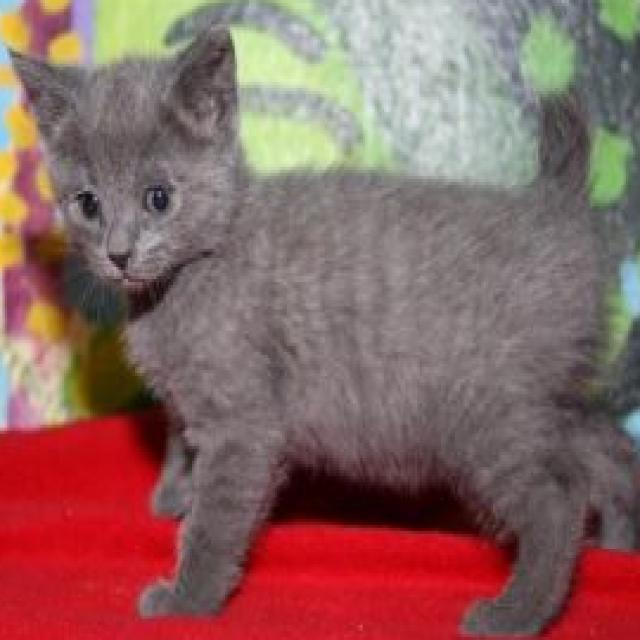American Bobtail: (2, 15, 640, 640)
